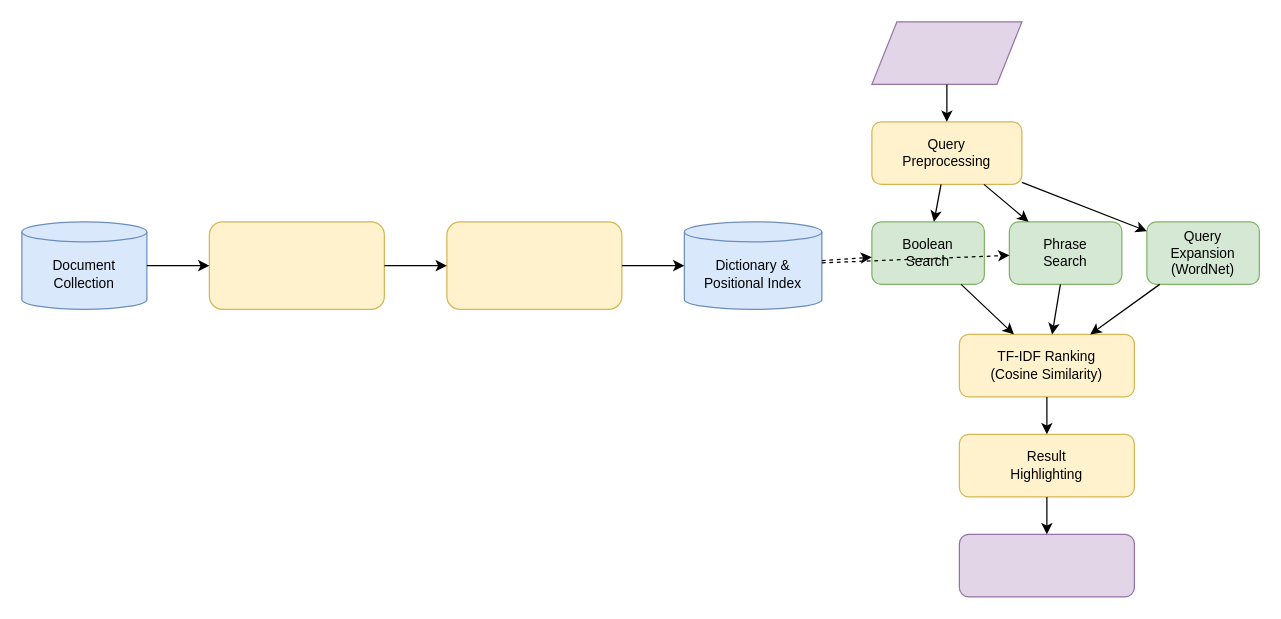
Some shapes in this 1281 by 619 pixel diagram are drawn without their labels. The shapes that lost their labels are listed below. From the top down, each one's centre as x and y in pixels, then its label:
the point at 946,52: User Query
the point at 296,265: Preprocessing (Tokenize, Stopword Removal, Stemming)
the point at 534,265: Inverted Index Construction (with Positions)
the point at 1046,565: Web Interface (Vue 3)
